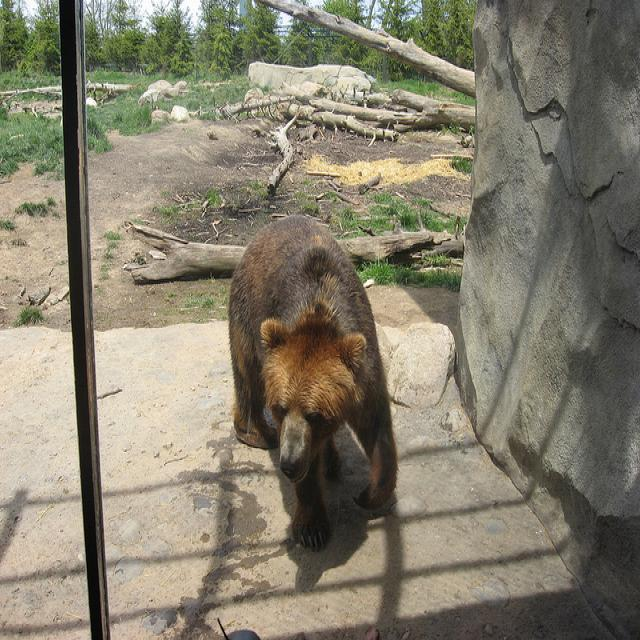Bear: (227, 209, 406, 557)
